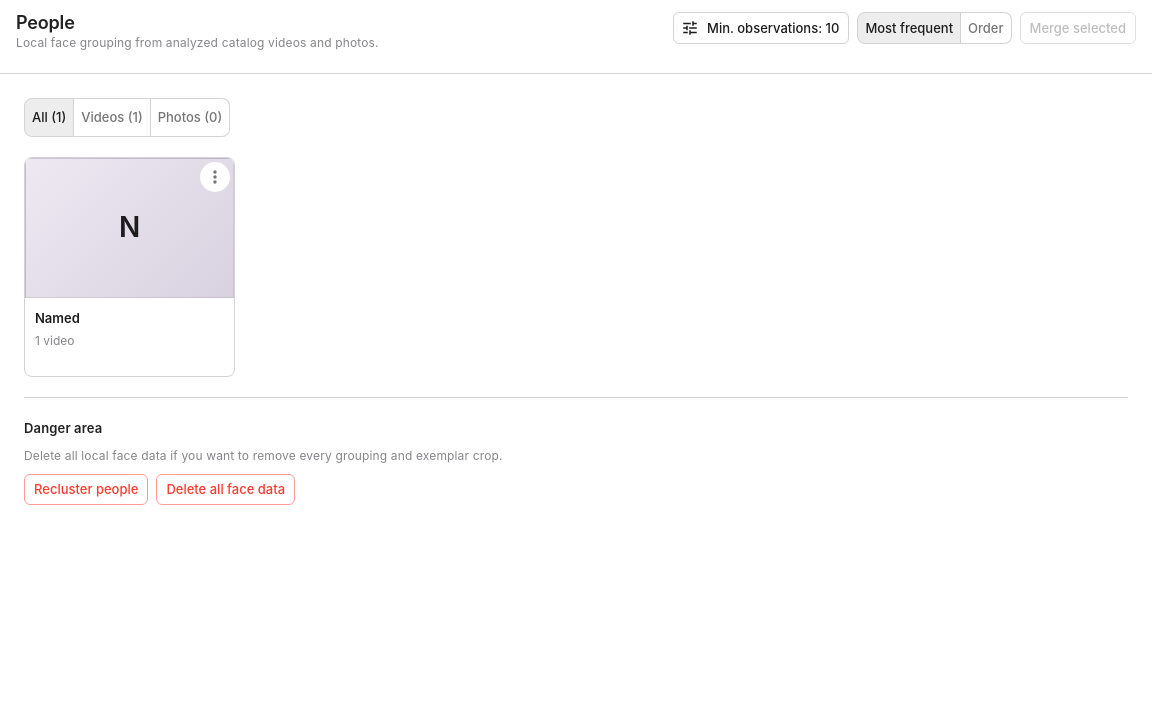
Scenario: PeopleView › PE06 refreshes people when purge applied but cleanup failed
Expected: the element with test id "people-grid" is shown, [24,157,235,377]
Click the button with test id "people-purge" at (226,490), box [156,474,295,505]
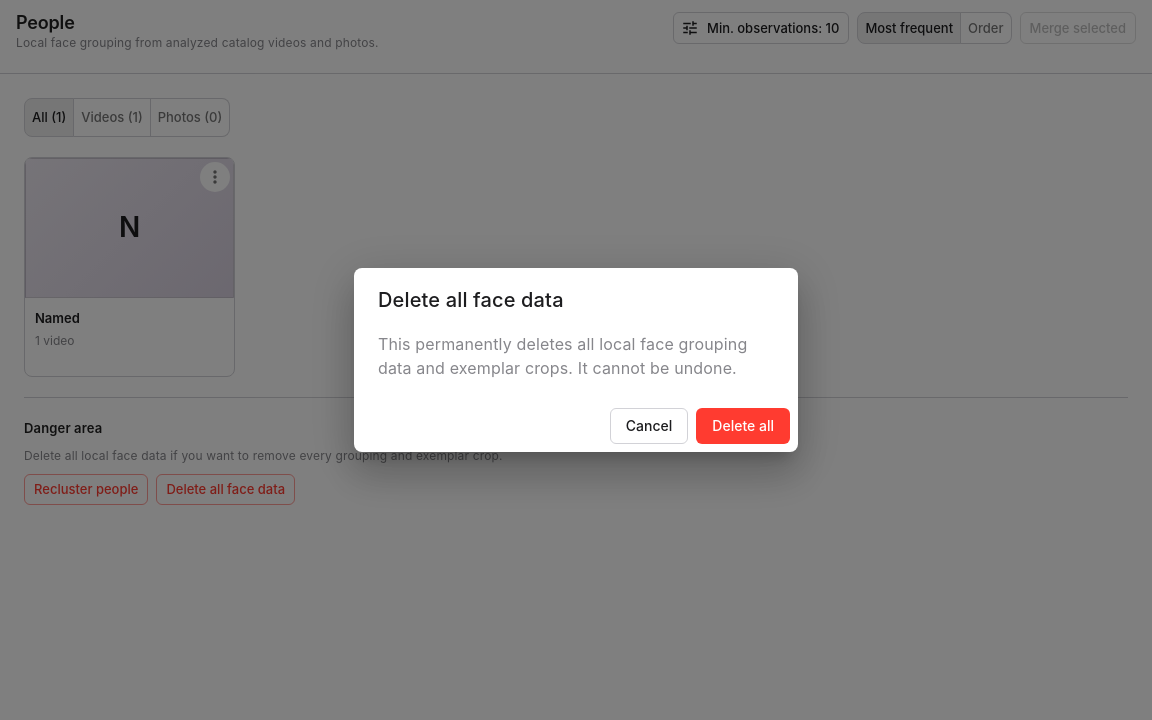
Click the button with test id "people-purge-confirm" at (743,426), box [696,408,790,444]
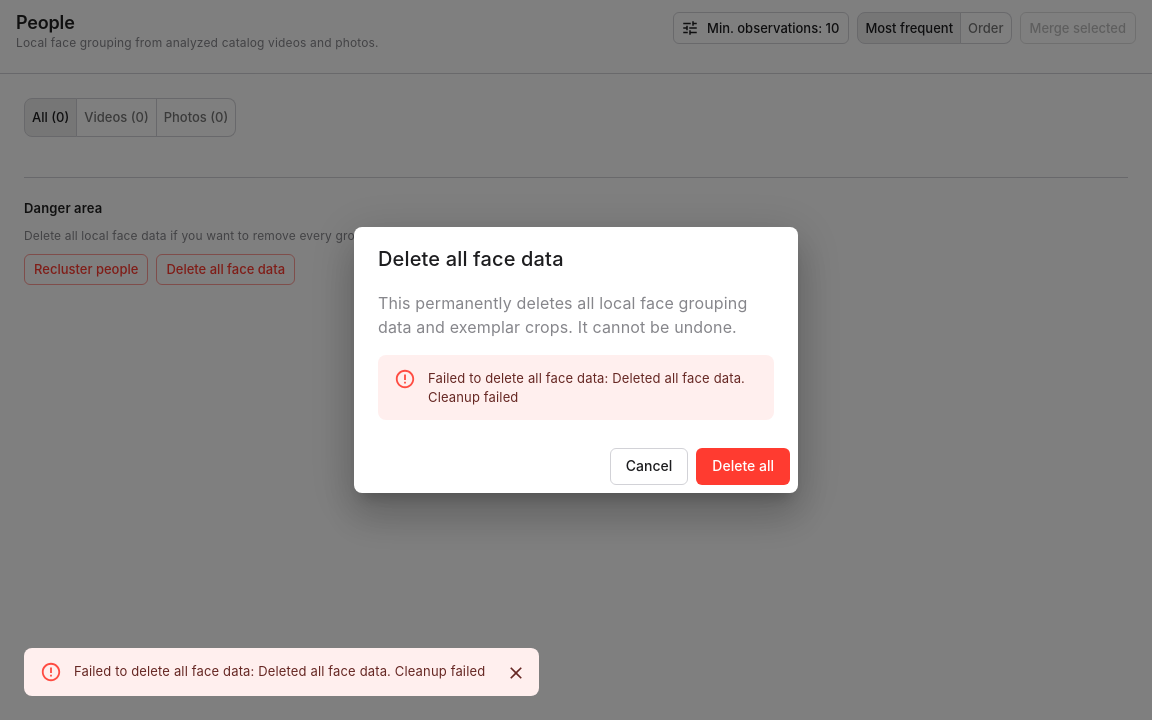
Now the message with test id "people-mutation-error" is shown, box [24,648,539,696]
